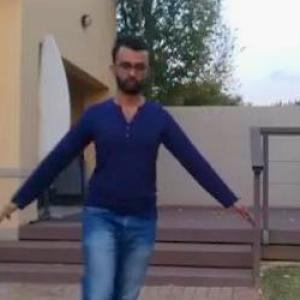land: (11, 49, 218, 299)
